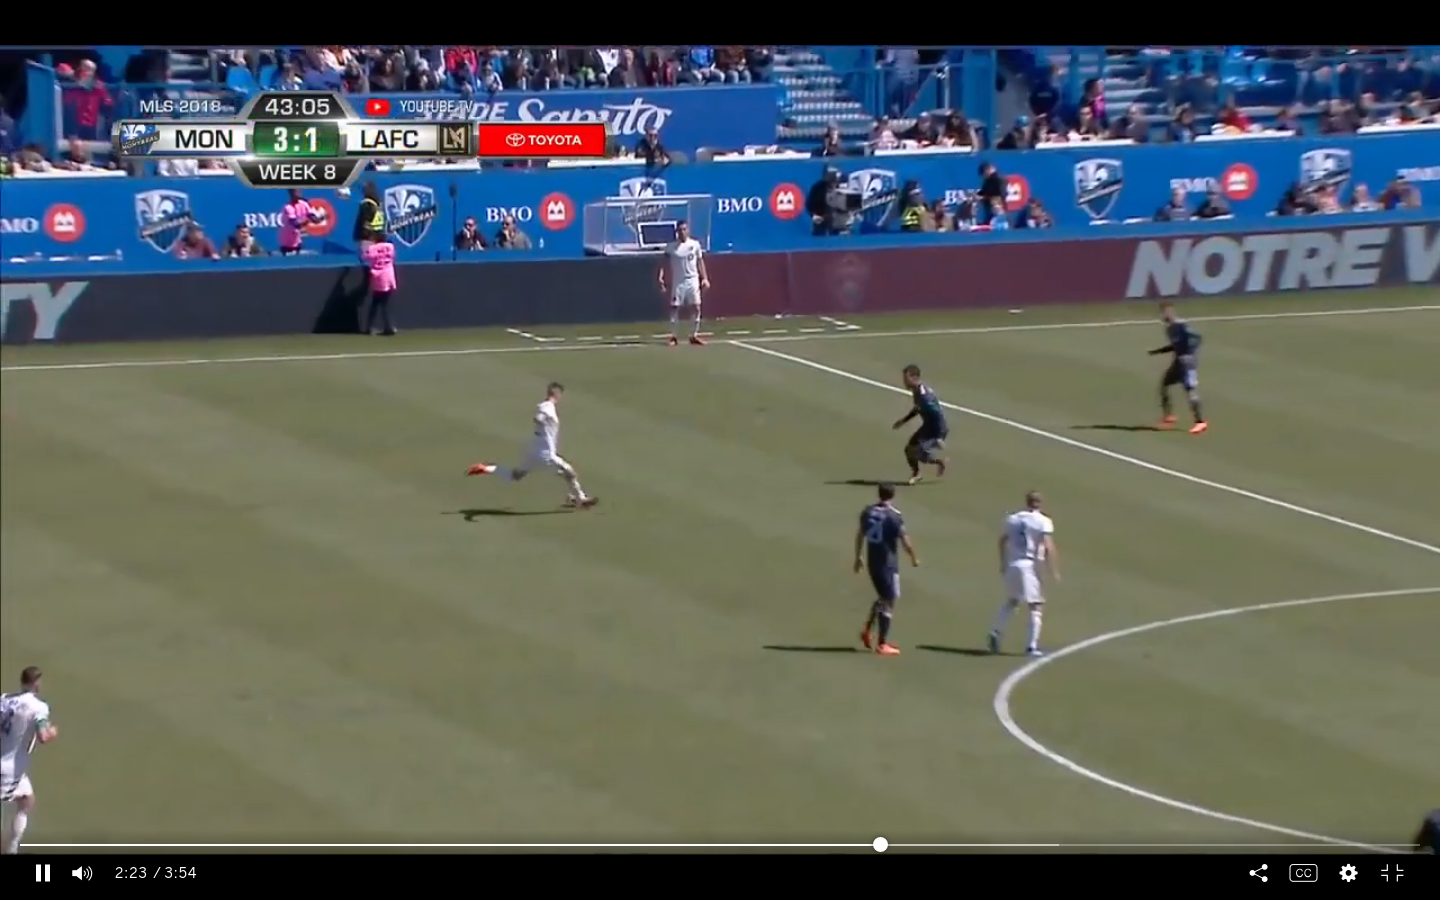soccer player: (459, 380, 610, 522), (981, 486, 1062, 659), (848, 486, 921, 662), (1, 663, 65, 838), (1148, 297, 1215, 440), (888, 366, 956, 479), (658, 219, 710, 348)
